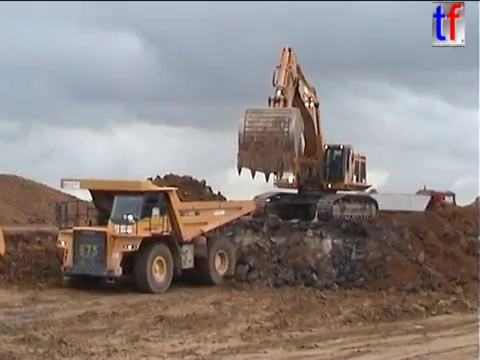excavator: (233, 44, 382, 228)
truck: (54, 176, 259, 295), (354, 184, 458, 225), (1, 225, 7, 258)
